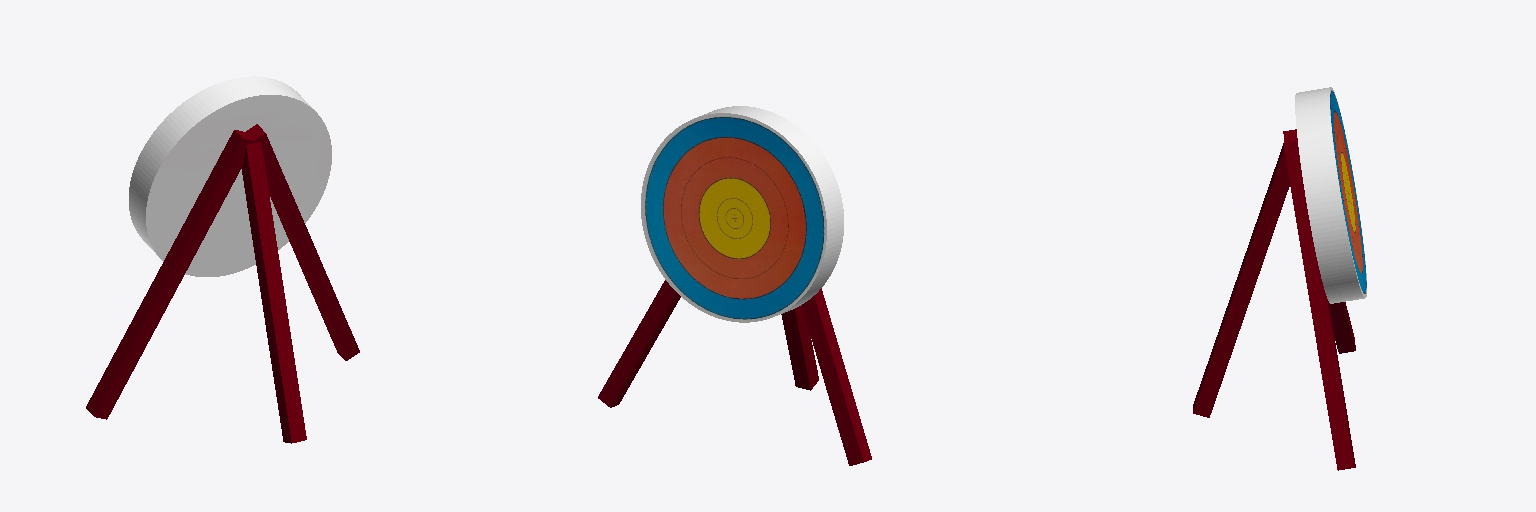
3 renders of one model, left to right at view 1: azimuth 30°, elevation 25°; view 2: azimuth 150°, elevation 25°; view 3: azimuth 270°, elevation 25°, orthographic.
Visible parts, largest first — view 1: Target; view 2: Target; view 3: Target.
Part boxes in pixels (x1,y1,x2,y2): Target: (86, 76, 359, 443); Target: (598, 106, 871, 465); Target: (1193, 87, 1366, 470).
Size of the model in its own units: 3.51 by 3.99 by 1.99.
3 materials, 3 textured.